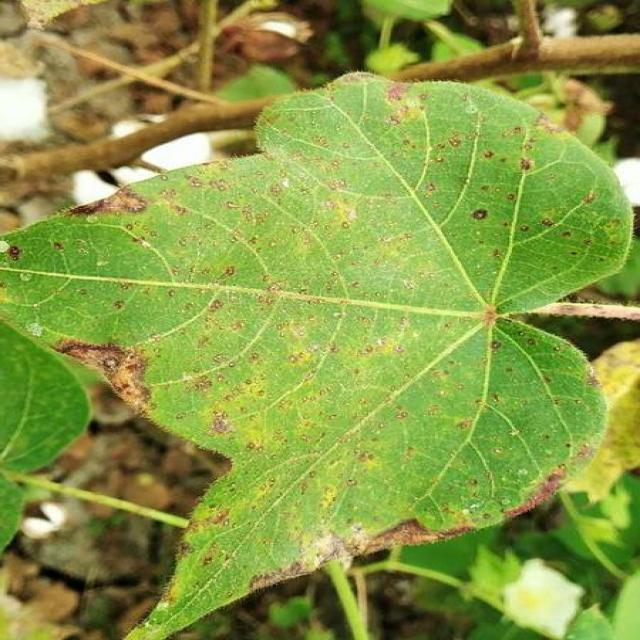Bacterial Blight: (36, 187, 419, 450)
